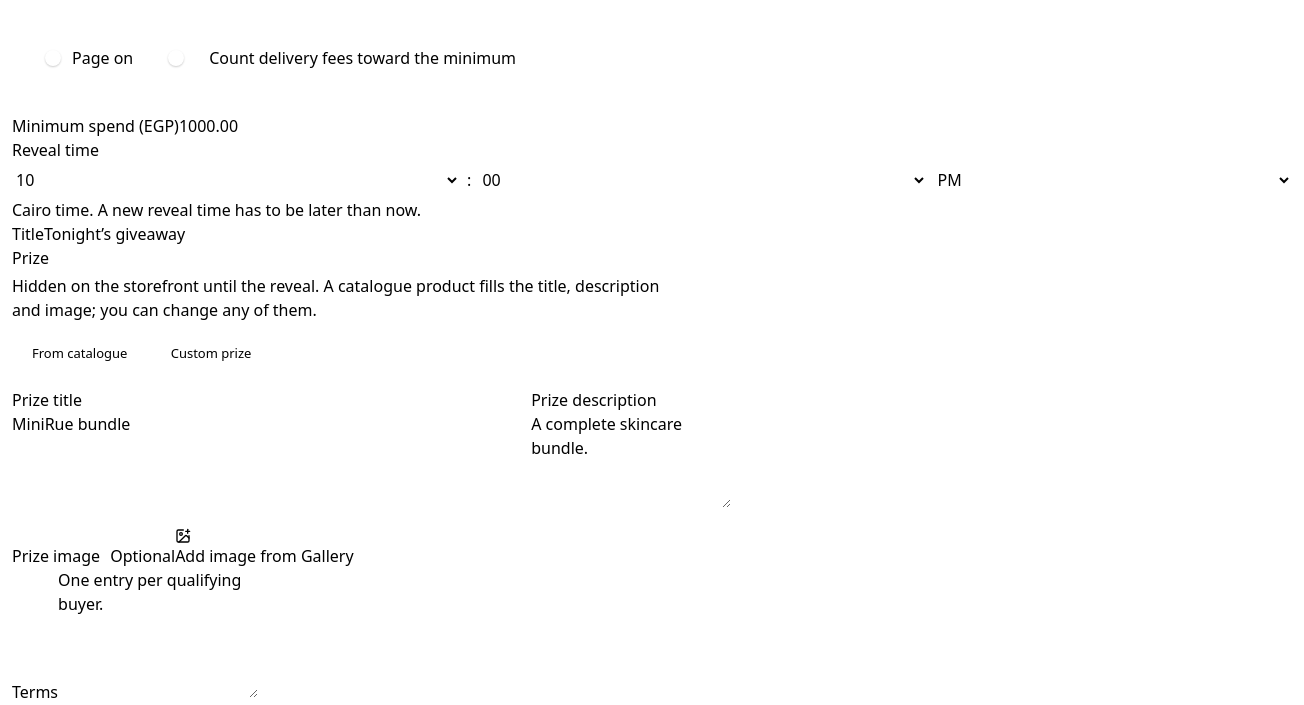
Test: GiveawayClient settings › refuses to save the catalogue mode until a product is chosen
(page scrolled)
Click the radio button labelled "From catalogue" at (80, 353), box [32,344,127,362]
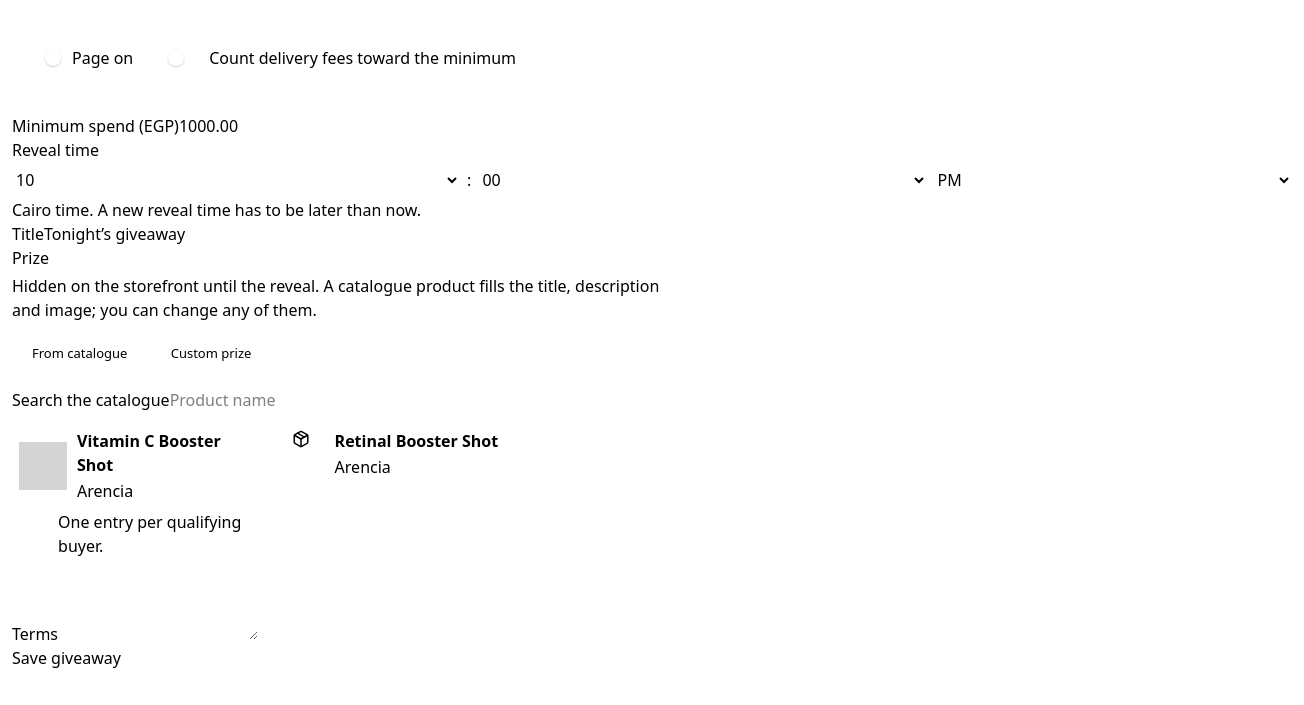
Click the button "Save giveaway" at (66, 658), box [12,646,121,670]
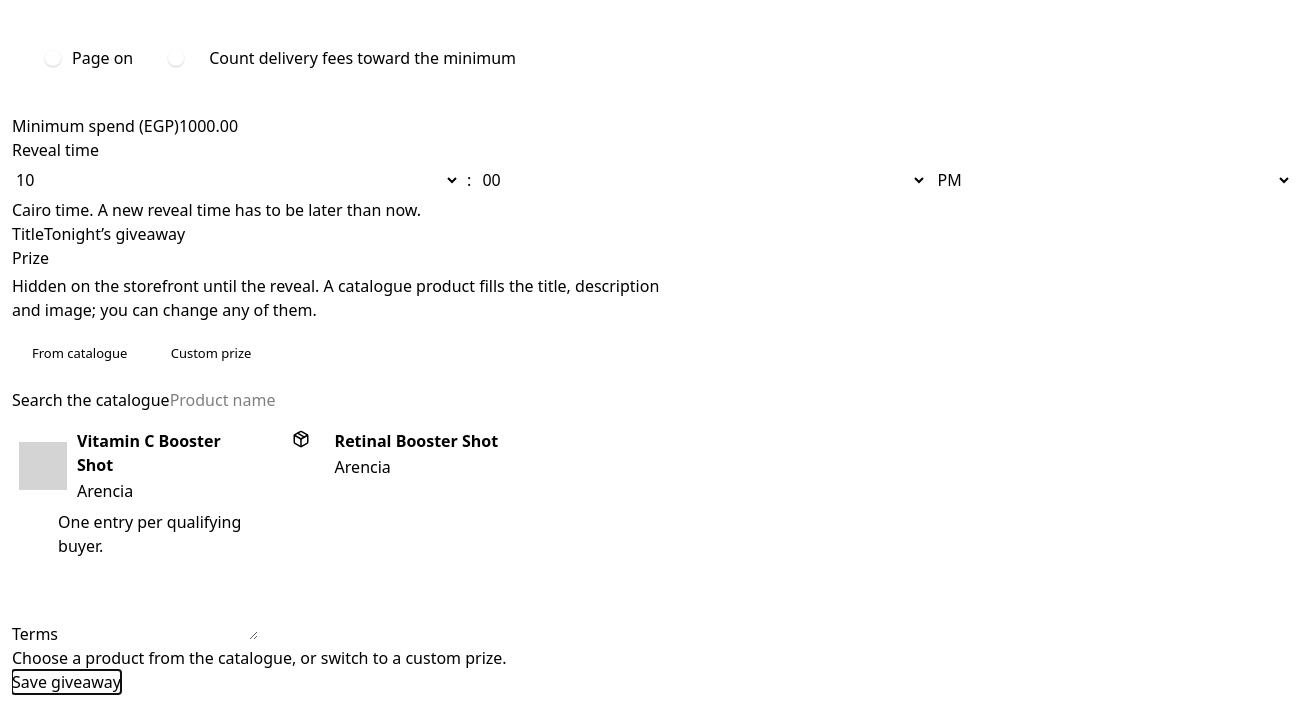
Expected: the message reads "Choose a product from the catalogue, or switch to a custom prize.", [12,647,507,669]
